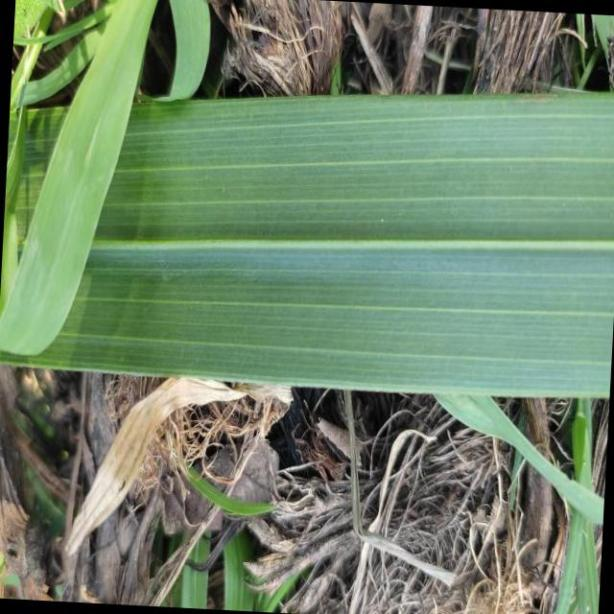Healthy: (0, 96, 614, 396)
